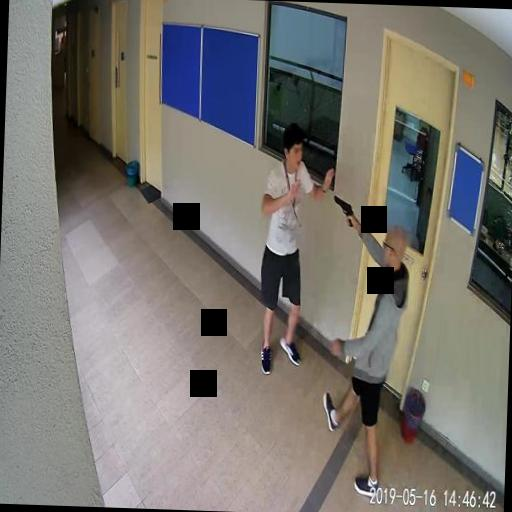Handgun: (332, 192, 352, 226)
